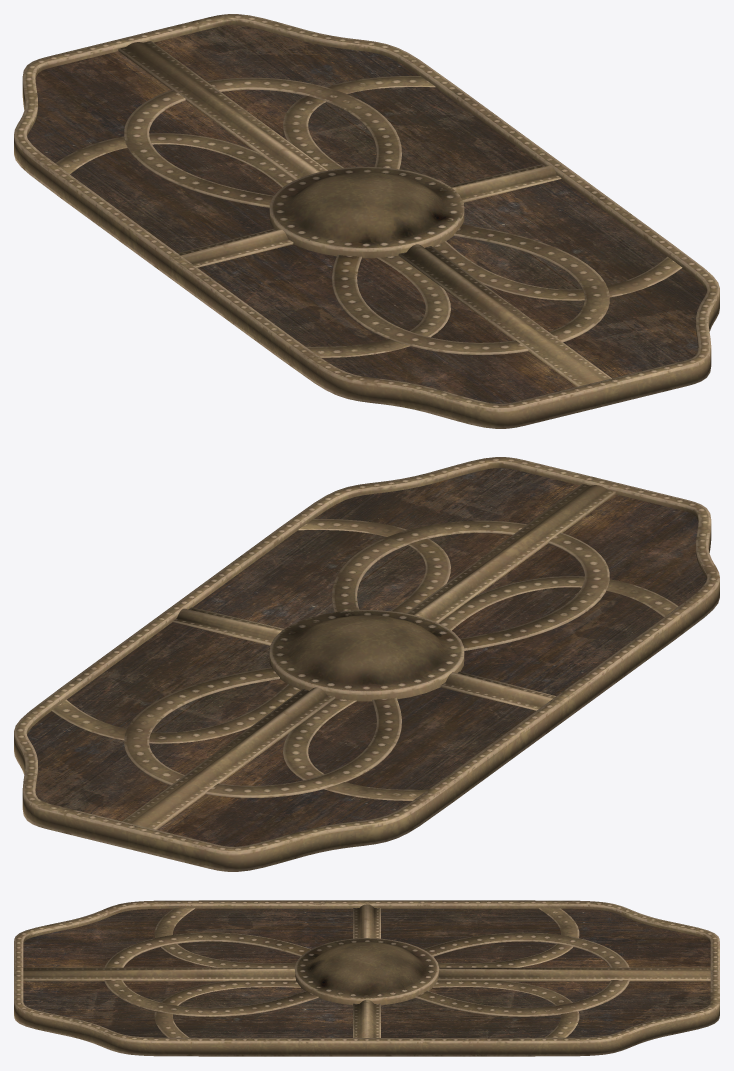
The model's file is dunland_wulf_shield_heavy_c.fbx.
The picture shows the model from 3 angles, top to bottom: view 1: azimuth 30°, elevation 25°; view 2: azimuth 150°, elevation 25°; view 3: azimuth 270°, elevation 25°; orthographic projection. The views are drawn at different scales.
Parts seen in each view (by area): view 1: dunland_wulf_shield_heavy_c; view 2: dunland_wulf_shield_heavy_c; view 3: dunland_wulf_shield_heavy_c.
Part boxes in pixels (<box>): dunland_wulf_shield_heavy_c: <box>14,14,719,428</box>; dunland_wulf_shield_heavy_c: <box>14,457,719,871</box>; dunland_wulf_shield_heavy_c: <box>14,900,719,1056</box>.
Bounding box in the file's own units: 0.72 × 1.52 × 0.0818.
1 material, 1 textured.
